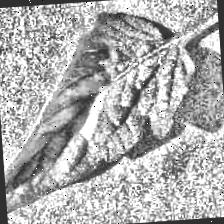leaf mold: (0, 40, 199, 222)
